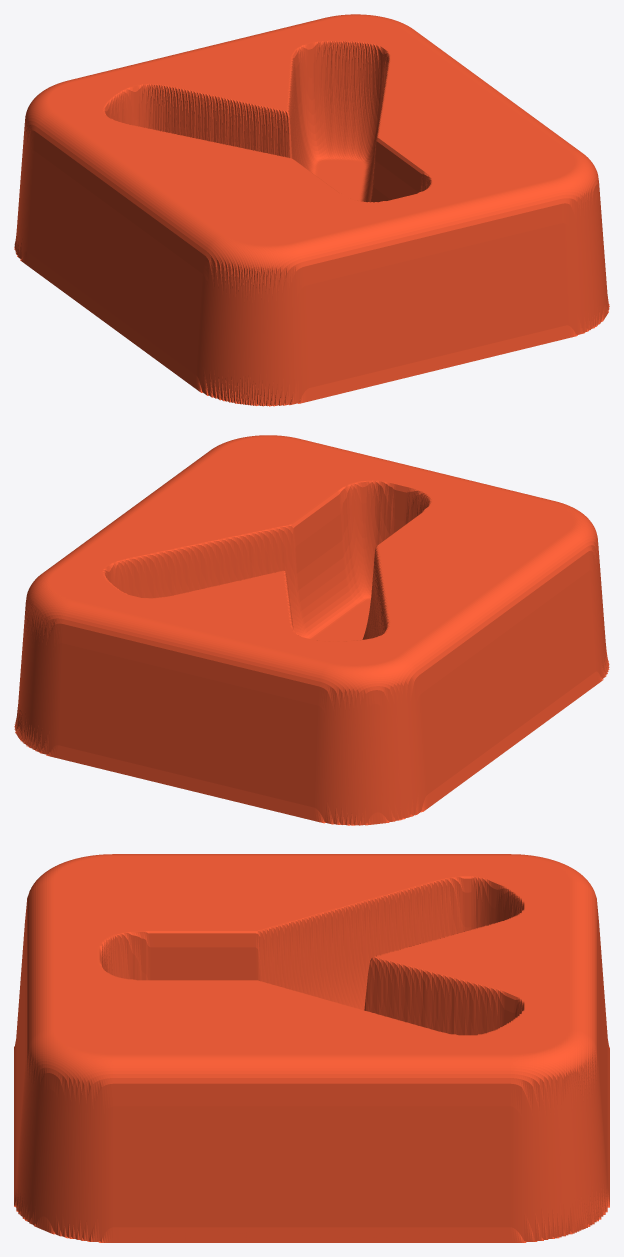
Rendered from mold.glb.
The picture shows the model from 3 angles, top to bottom: view 1: azimuth 30°, elevation 25°; view 2: azimuth 150°, elevation 25°; view 3: azimuth 270°, elevation 25°; orthographic projection. The views are drawn at different scales.
Visible parts, largest first — view 1: geometry_0; view 2: geometry_0; view 3: geometry_0.
Boxes of the visible parts, left/top/right/bottom form: geometry_0: left=14, top=14, right=609, bottom=406; geometry_0: left=14, top=435, right=609, bottom=825; geometry_0: left=14, top=854, right=609, bottom=1242.
Size of the model in its own units: 0.0498 by 0.0172 by 0.0542.
